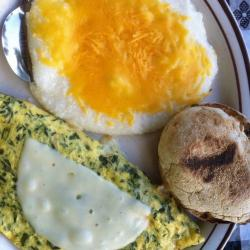bread: (160, 104, 250, 226)
omelette: (2, 100, 200, 250)
